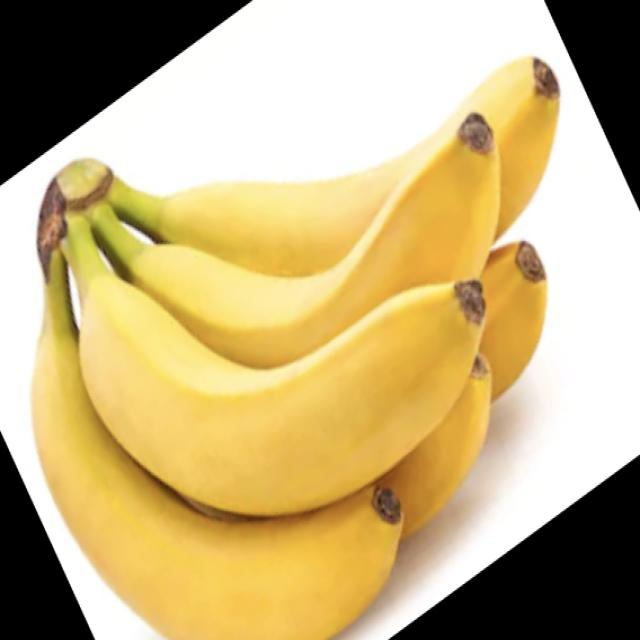banana: (13, 105, 604, 640)
